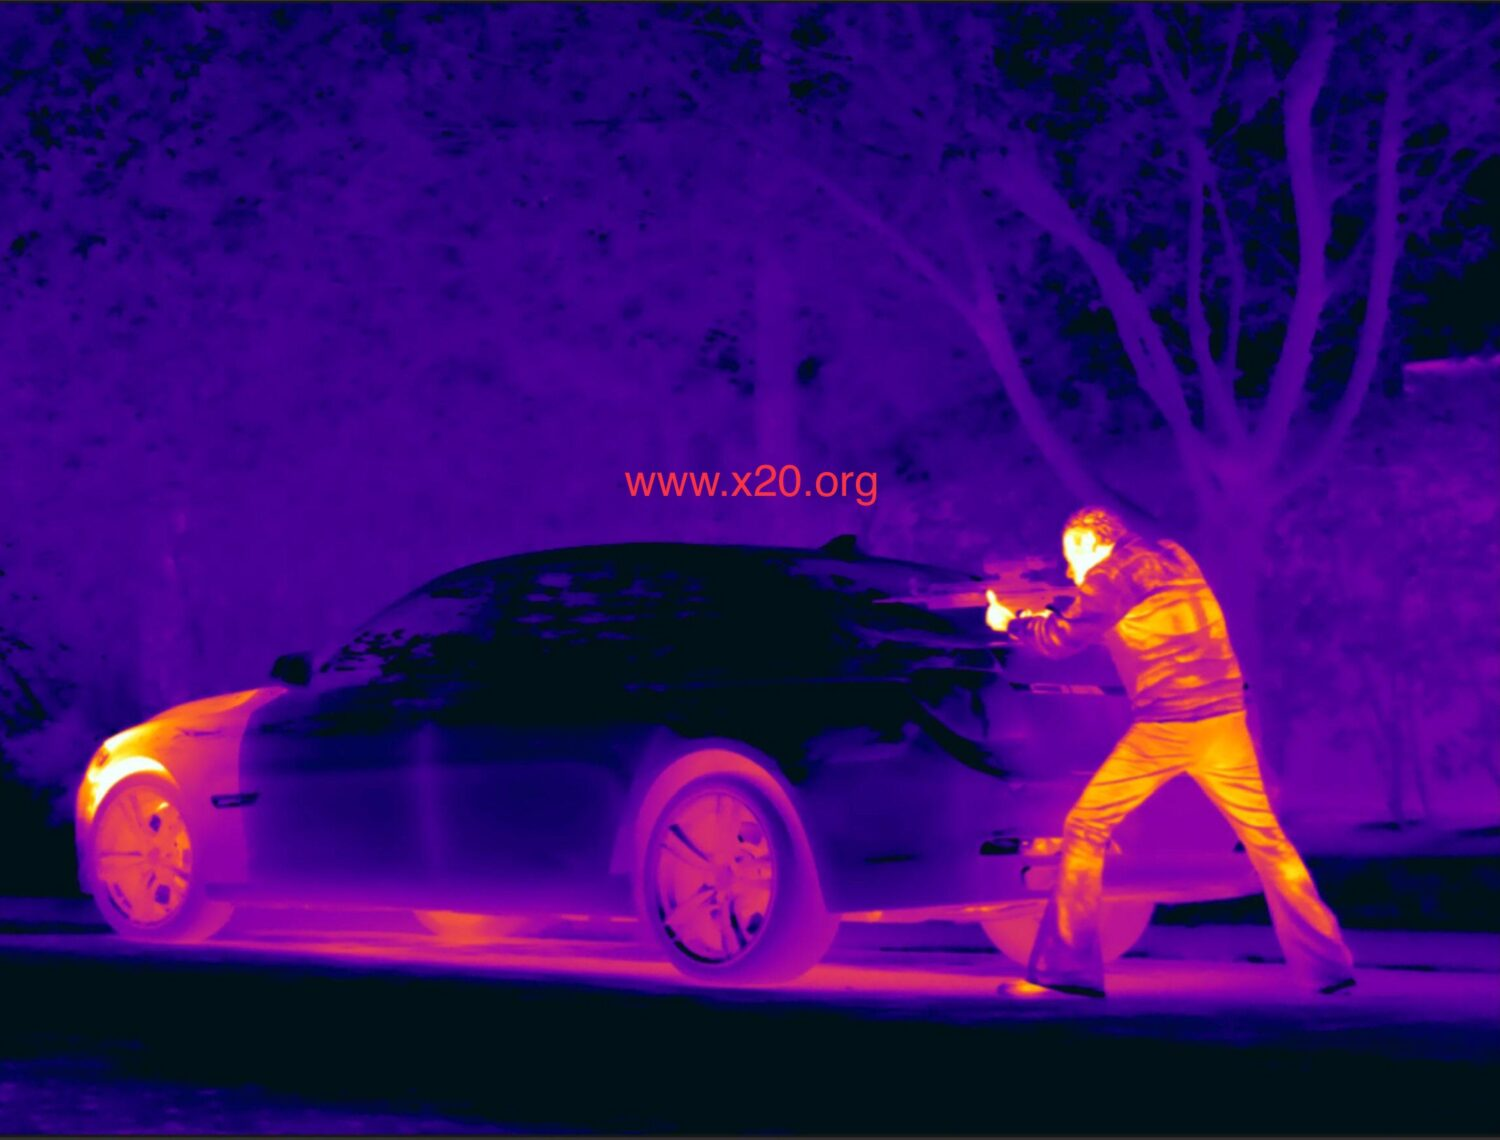car: (66, 506, 1066, 1003)
gun: (856, 550, 1079, 626)
person: (1021, 486, 1382, 1003)
